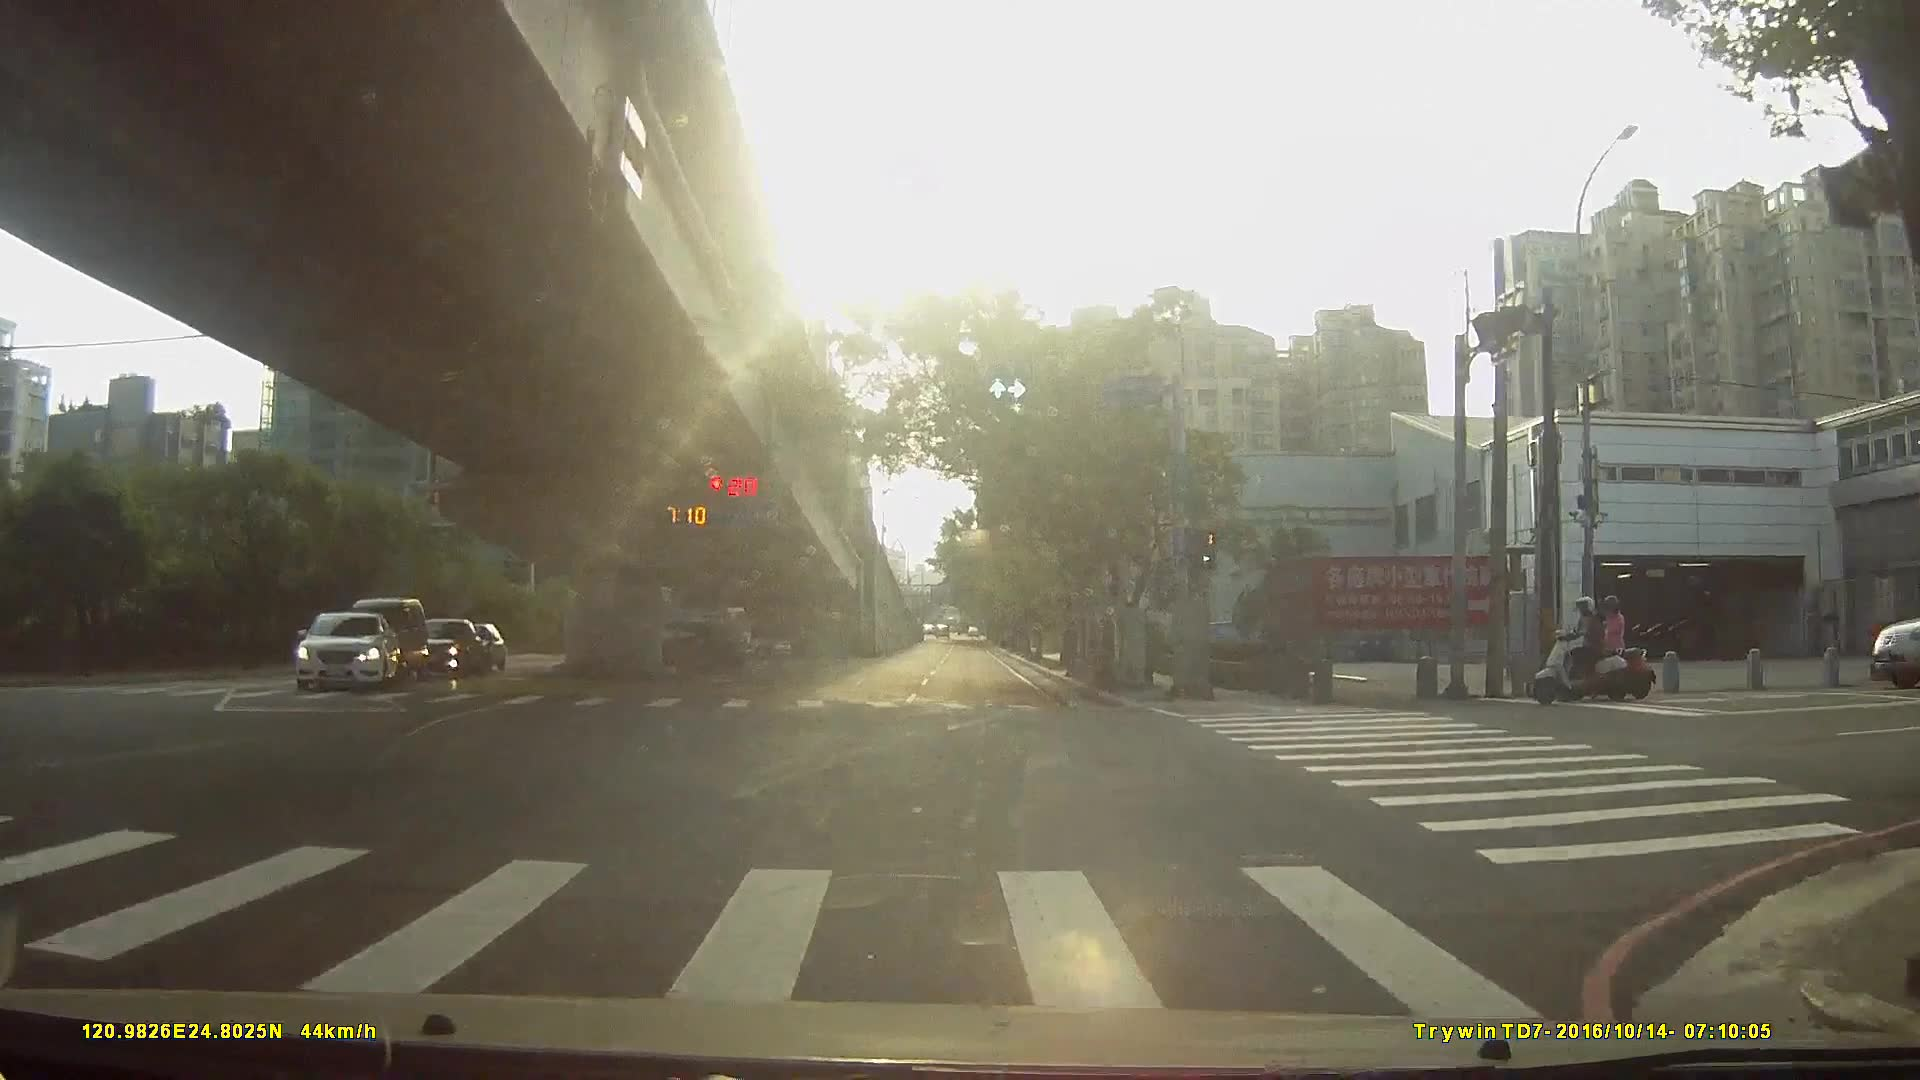rider: (1527, 595, 1630, 703)
vehicle: (283, 612, 394, 696), (339, 596, 421, 685), (629, 619, 748, 678), (400, 619, 483, 681)
